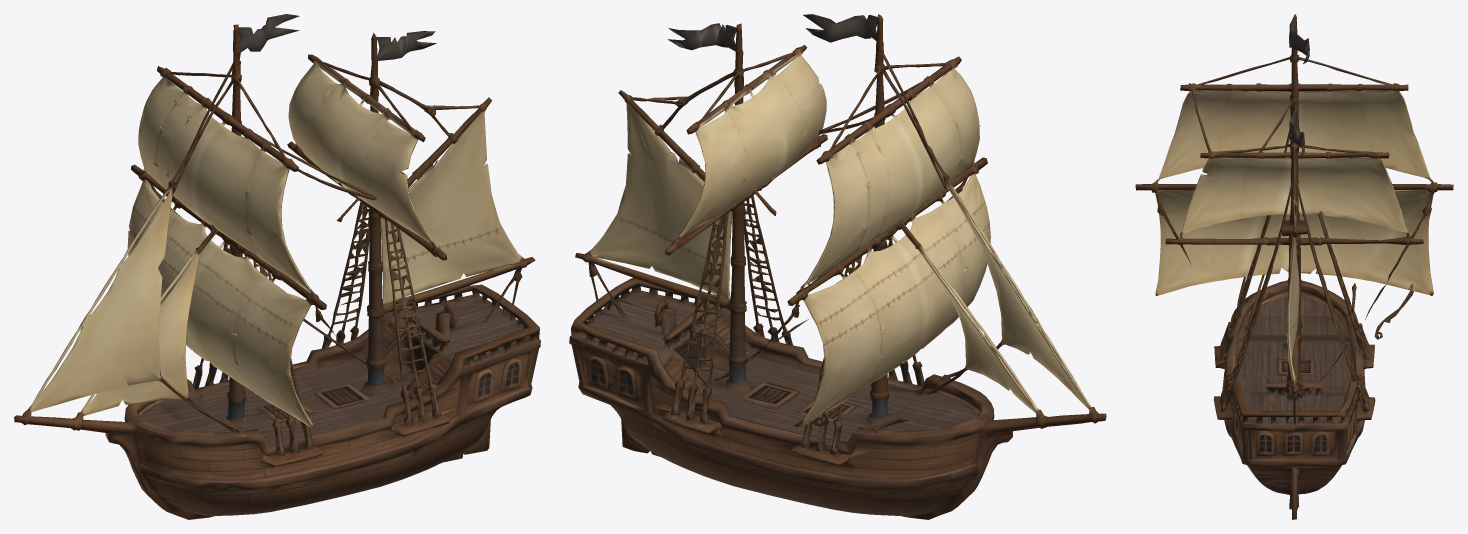
File: ship.glb
The picture shows the model from 3 angles, left to right: view 1: azimuth 30°, elevation 25°; view 2: azimuth 150°, elevation 25°; view 3: azimuth 270°, elevation 25°; orthographic projection. The views are drawn at different scales.
Visible parts, largest first — view 1: tripo_node_e7820fe9-4ad1-46c1-8ddf-c323cad4f971; view 2: tripo_node_e7820fe9-4ad1-46c1-8ddf-c323cad4f971; view 3: tripo_node_e7820fe9-4ad1-46c1-8ddf-c323cad4f971.
Part boxes in pixels (bbox=[...]): tripo_node_e7820fe9-4ad1-46c1-8ddf-c323cad4f971: bbox=[14, 14, 540, 519]; tripo_node_e7820fe9-4ad1-46c1-8ddf-c323cad4f971: bbox=[569, 14, 1106, 519]; tripo_node_e7820fe9-4ad1-46c1-8ddf-c323cad4f971: bbox=[1135, 14, 1453, 519].
Bounding box in the file's own units: 0.9791 × 0.8743 × 0.6239.
Materials: 1 (1 with a texture image).
